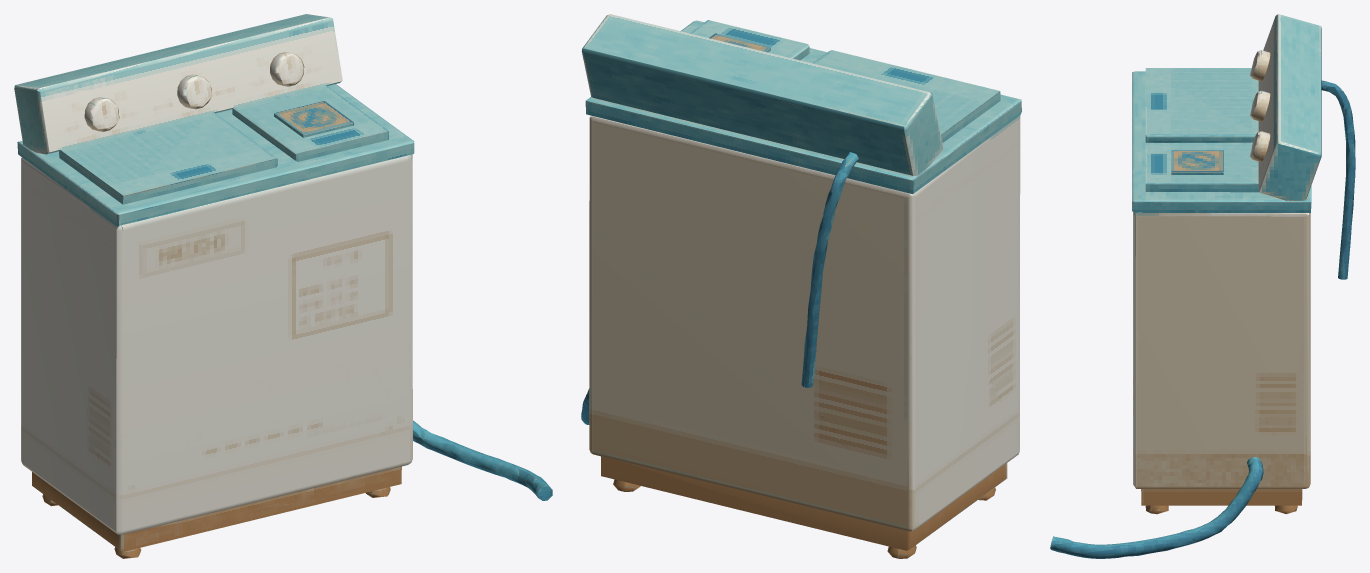
File: twin_tub_own.glb
3 renders of one model, left to right at view 1: azimuth 30°, elevation 25°; view 2: azimuth 150°, elevation 25°; view 3: azimuth 270°, elevation 25°, orthographic. The views are drawn at different scales.
Parts seen in each view (by area): view 1: mesh; view 2: mesh; view 3: mesh.
Part boxes in pixels (x1,y1,x2,y2): mesh: [14, 14, 552, 558]; mesh: [581, 14, 1021, 558]; mesh: [1050, 14, 1355, 558].
Size of the model in its own units: 1.02 by 1.03 by 0.7558.
Materials: 1 (1 with a texture image).
